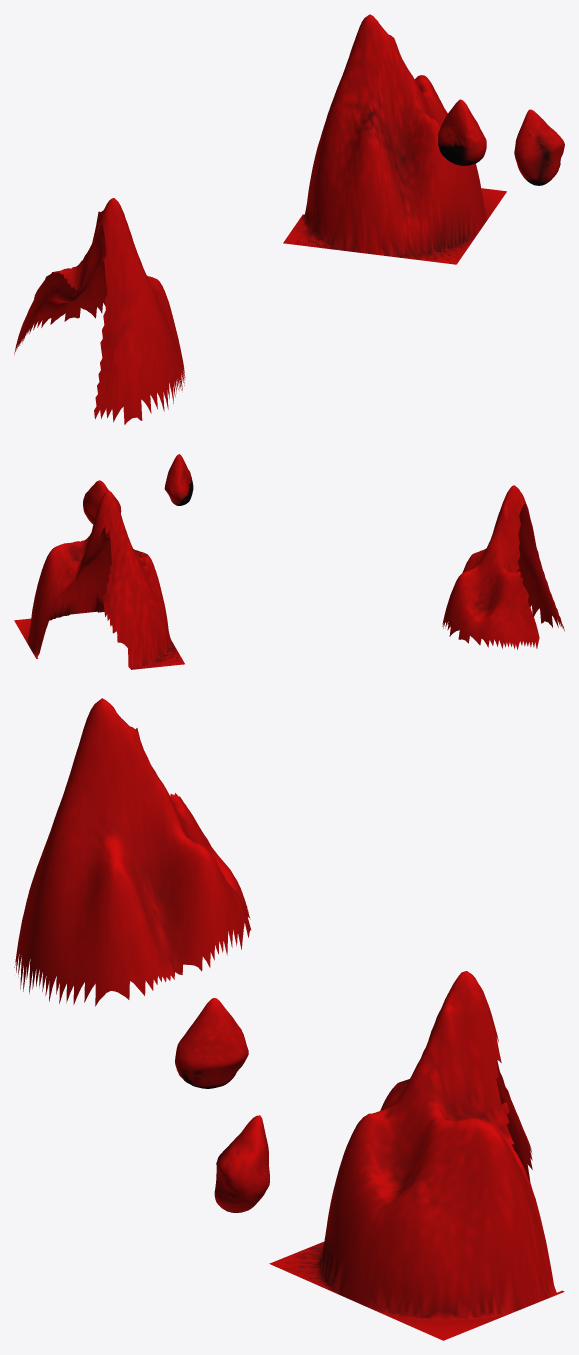
Rendered from mountain_entrance_environmental_mountains.obj.
3 renders of one model, top to bottom at view 1: azimuth 30°, elevation 25°; view 2: azimuth 150°, elevation 25°; view 3: azimuth 270°, elevation 25°, orthographic. The views are drawn at different scales.
Visible parts, largest first — view 1: EntranceMountains; view 2: EntranceMountains; view 3: EntranceMountains.
Part boxes in pixels (bbox=[...]): EntranceMountains: bbox=[14, 14, 564, 424]; EntranceMountains: bbox=[14, 454, 564, 669]; EntranceMountains: bbox=[14, 698, 564, 1340].
Size of the model in its own units: 222 by 76.42 by 131.
